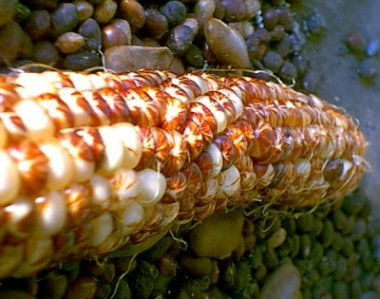corn: (0, 69, 370, 282)
